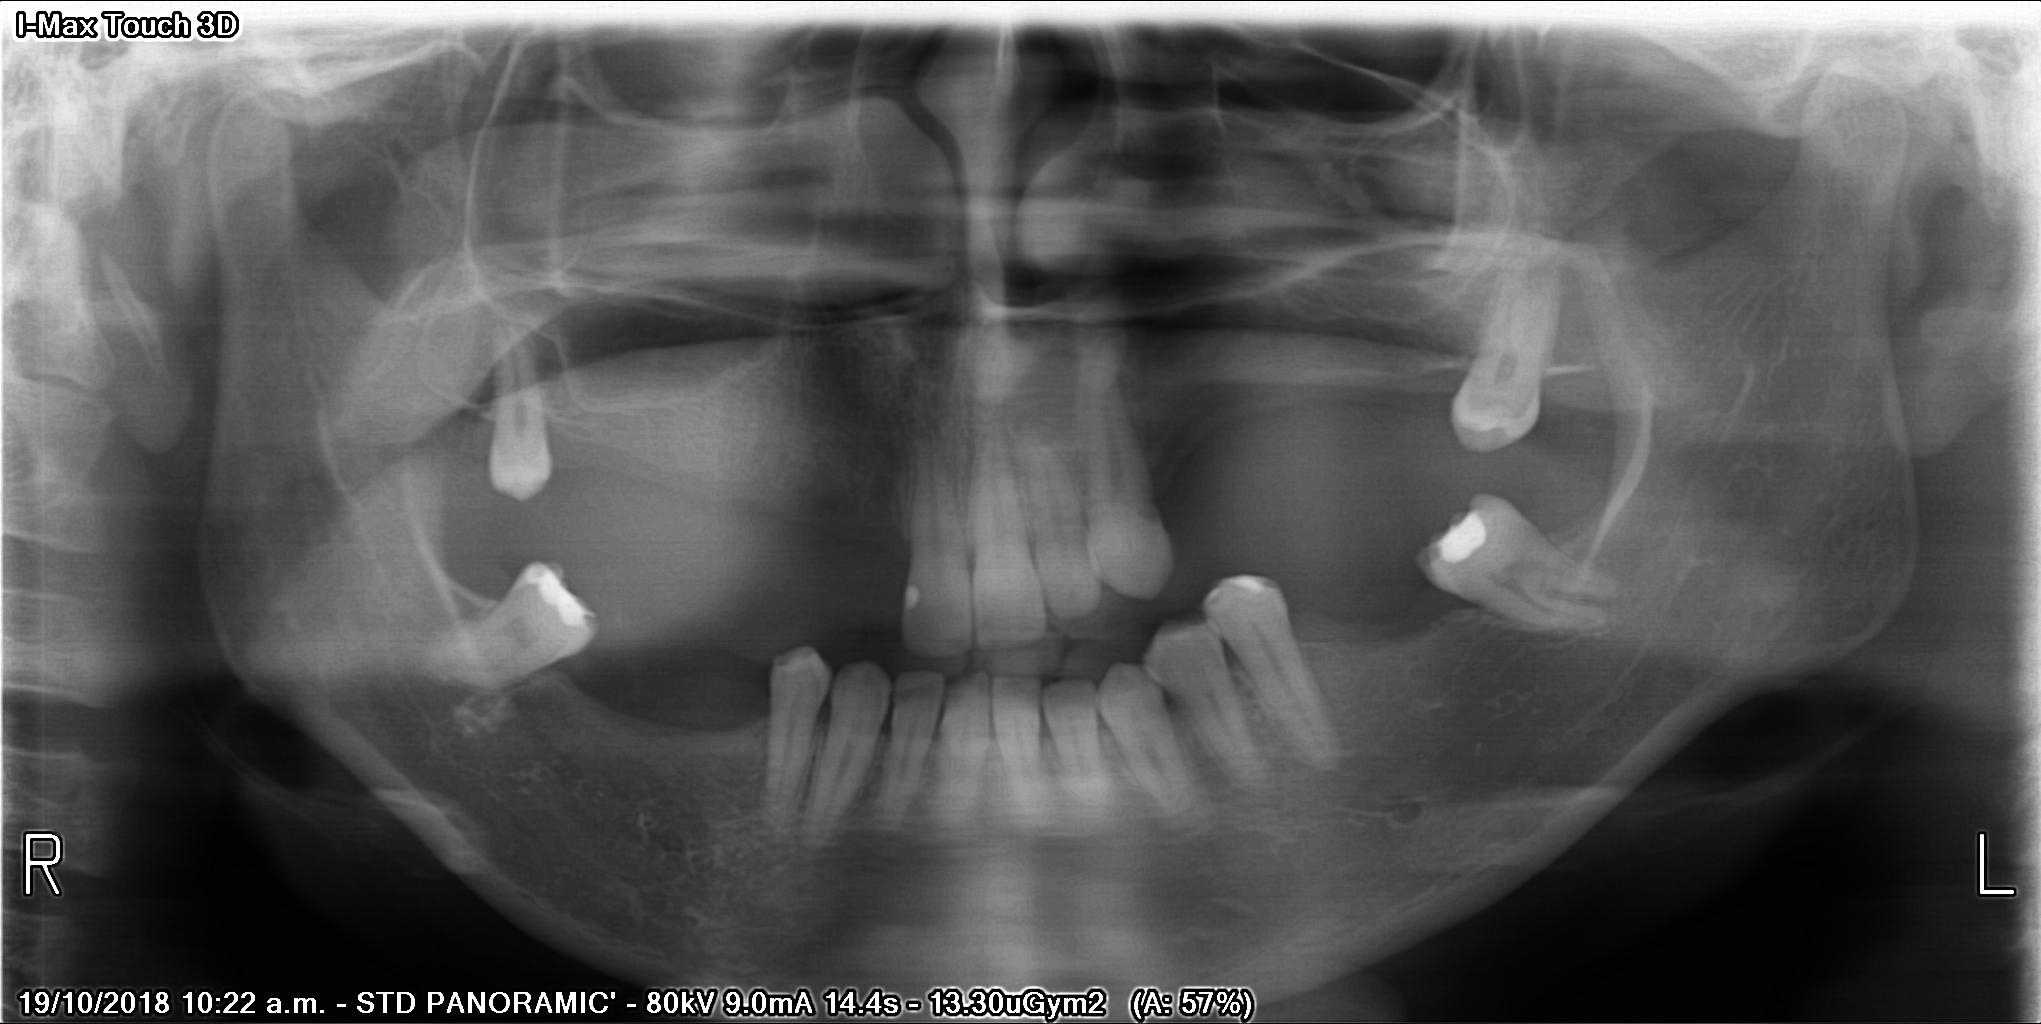Çürük: (1418, 507, 1506, 567), (528, 563, 599, 635), (898, 584, 925, 613)
